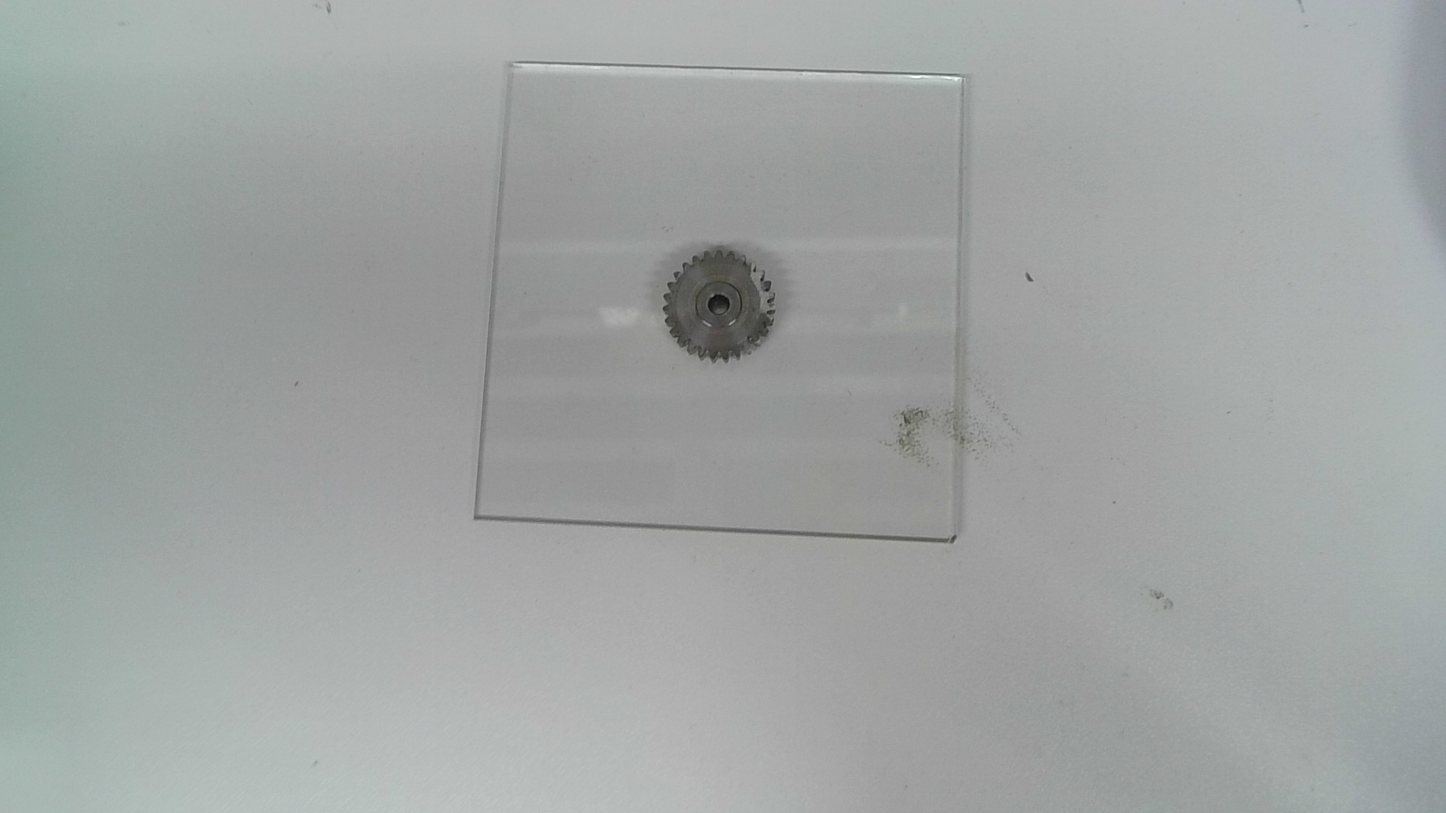gear: (663, 250, 774, 365)
